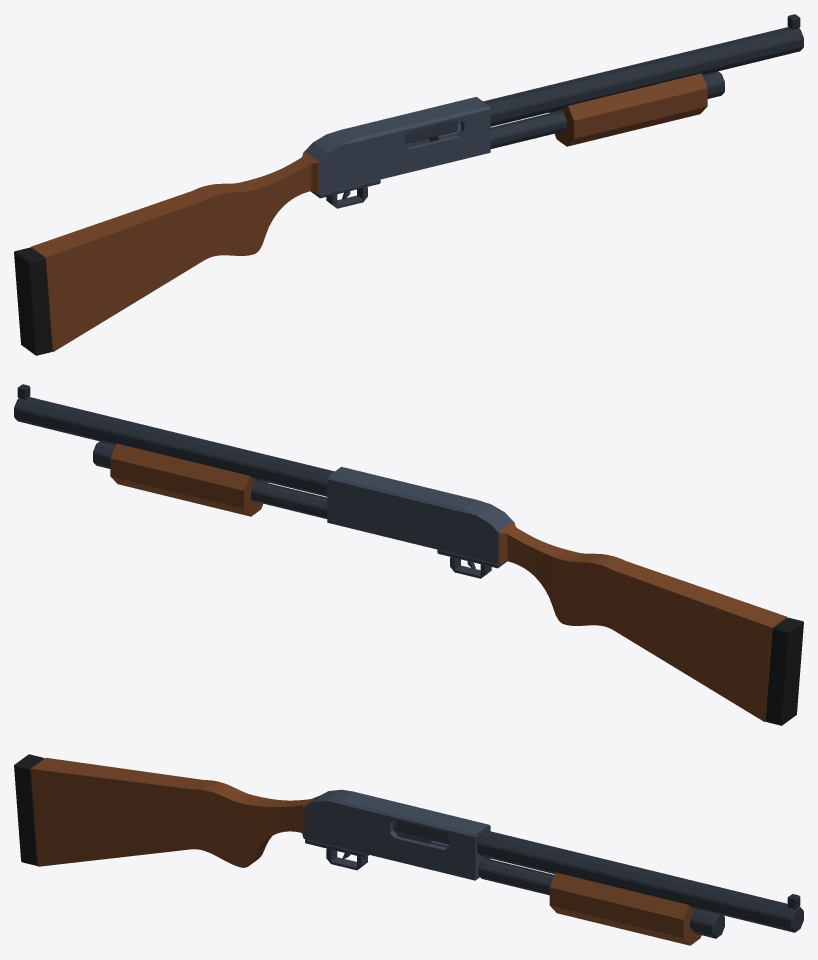
File: shotgun_pump.glb
The picture shows the model from 3 angles, top to bottom: view 1: azimuth 30°, elevation 25°; view 2: azimuth 150°, elevation 25°; view 3: azimuth 330°, elevation 25°; orthographic projection.
Visible parts, largest first — view 1: stock:stock, receiver:receiver, barrel:barrel, forend:forend, tube:tube-magazine, lower:lower, bolt-carrier:bolt-carrier; view 2: stock:stock, receiver:receiver, barrel:barrel, forend:forend, tube:tube-magazine, lower:lower; view 3: stock:stock, receiver:receiver, barrel:barrel, forend:forend, tube:tube-magazine, bolt-carrier:bolt-carrier, lower:lower.
Boxes of the visible parts, left/top/right/bottom form: stock:stock: left=14, top=151, right=319, bottom=355; receiver:receiver: left=305, top=97, right=490, bottom=194; barrel:barrel: left=483, top=27, right=803, bottom=126; forend:forend: left=549, top=73, right=707, bottom=146; tube:tube-magazine: left=490, top=71, right=724, bottom=148; lower:lower: left=311, top=180, right=380, bottom=208; bolt-carrier:bolt-carrier: left=405, top=110, right=561, bottom=143; stock:stock: left=498, top=521, right=803, bottom=725; receiver:receiver: left=327, top=467, right=512, bottom=564; barrel:barrel: left=14, top=397, right=334, bottom=496; forend:forend: left=110, top=443, right=268, bottom=516; tube:tube-magazine: left=93, top=441, right=327, bottom=518; lower:lower: left=437, top=550, right=506, bottom=578; stock:stock: left=14, top=754, right=318, bottom=867; receiver:receiver: left=304, top=789, right=490, bottom=880; barrel:barrel: left=477, top=830, right=803, bottom=932; forend:forend: left=549, top=872, right=701, bottom=945; tube:tube-magazine: left=478, top=858, right=724, bottom=938; bolt-carrier:bolt-carrier: left=396, top=820, right=554, bottom=875; lower:lower: left=305, top=839, right=368, bottom=870.
Size of the model in its own units: 1.02 by 0.1855 by 0.0552.
